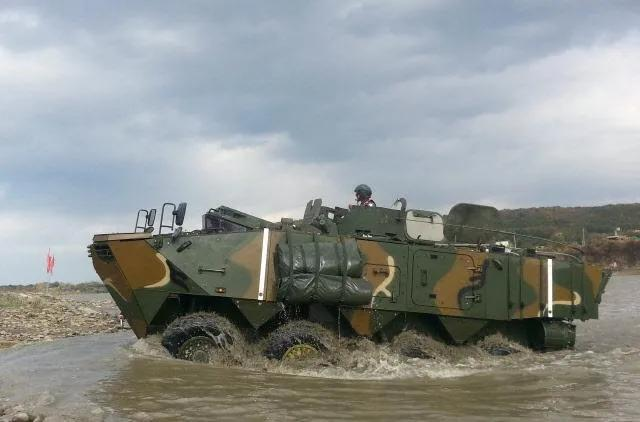MIL_IFV: (90, 186, 618, 377)
